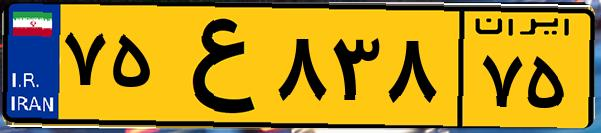3: (330, 28, 385, 110)
5: (525, 38, 570, 115), (110, 28, 158, 98)
7: (57, 26, 110, 100), (475, 38, 525, 113)
8: (270, 28, 330, 110), (385, 28, 445, 110)
ع: (158, 12, 270, 120)
